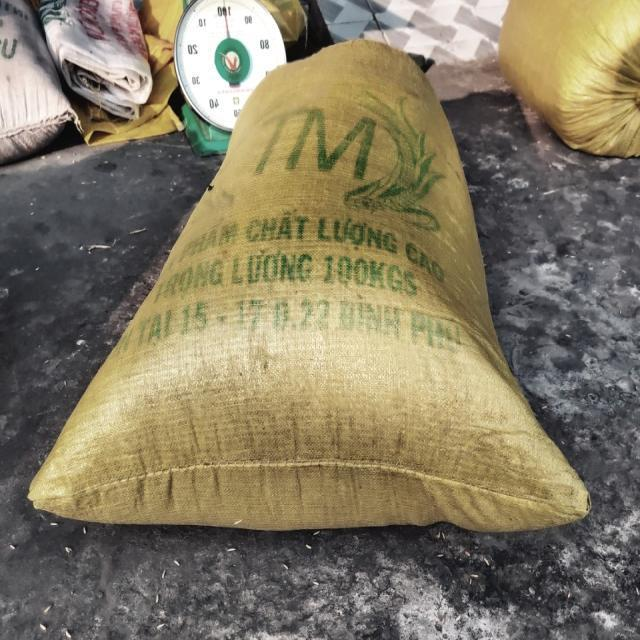gunny_bag: (28, 39, 590, 531)
